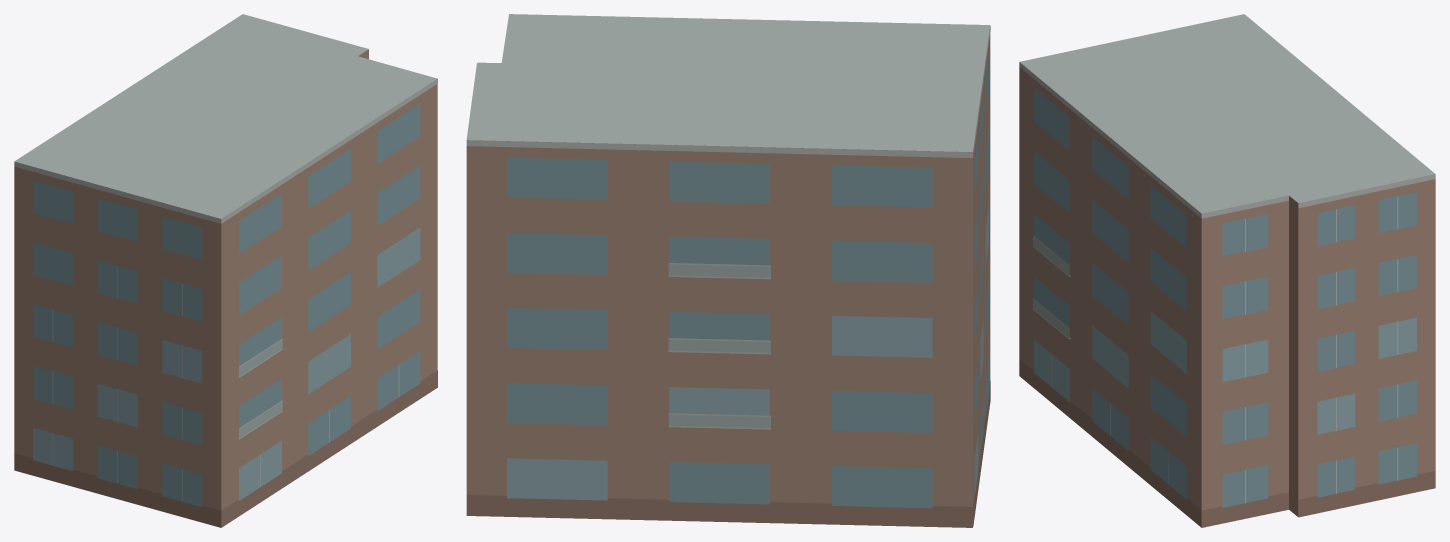
File: survey-upis-32723527.glb
3 views of the same model, side by side, from view 1: azimuth 30°, elevation 25°; view 2: azimuth 150°, elevation 25°; view 3: azimuth 270°, elevation 25° (orthographic). The views are drawn at different scales.
Visible parts, largest first — view 1: survey-upis-32723527.tmp; view 2: survey-upis-32723527.tmp; view 3: survey-upis-32723527.tmp.
Boxes of the visible parts, <box> form: survey-upis-32723527.tmp: <box>14,14,437,527</box>; survey-upis-32723527.tmp: <box>466,14,990,527</box>; survey-upis-32723527.tmp: <box>1019,14,1435,527</box>.
Size of the model in its own units: 20.8 by 15.25 by 18.32.
